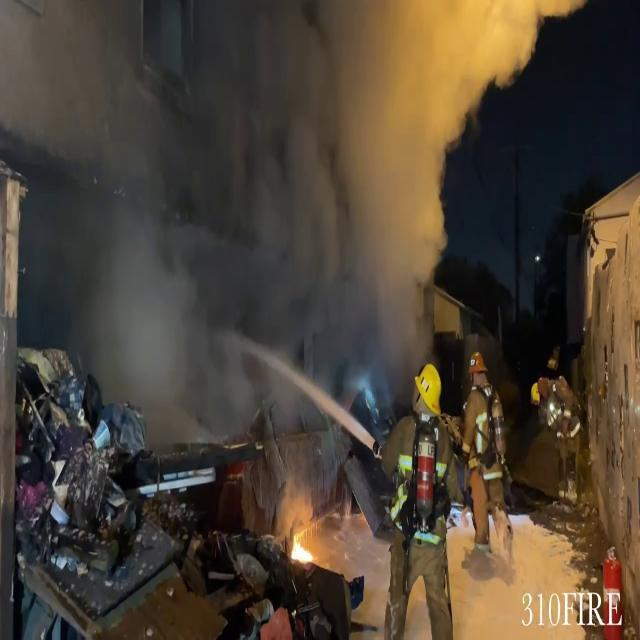Fire: (284, 528, 320, 573)
Smoke: (224, 0, 515, 340), (49, 137, 250, 471)
